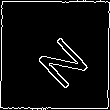N_NW: (23, 23, 87, 87)
